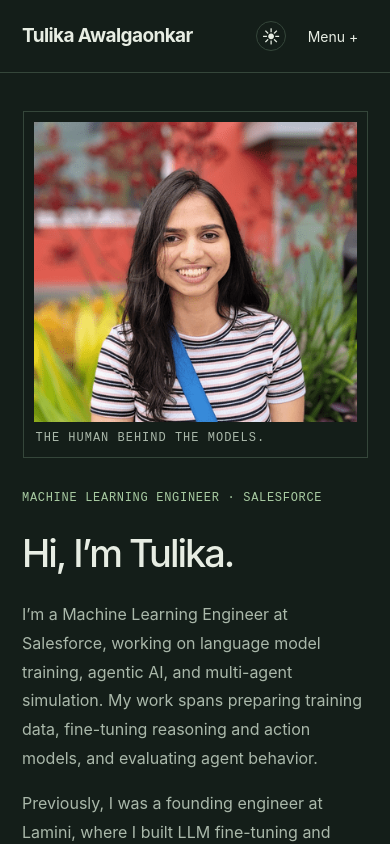
it: supports theme persistence and keyboard dismissal of mobile navigation
This screenshot has width=390, height=844.
Step 1. Click the button named "Switch to light mode" → click(271, 36), box [256,21,286,51]
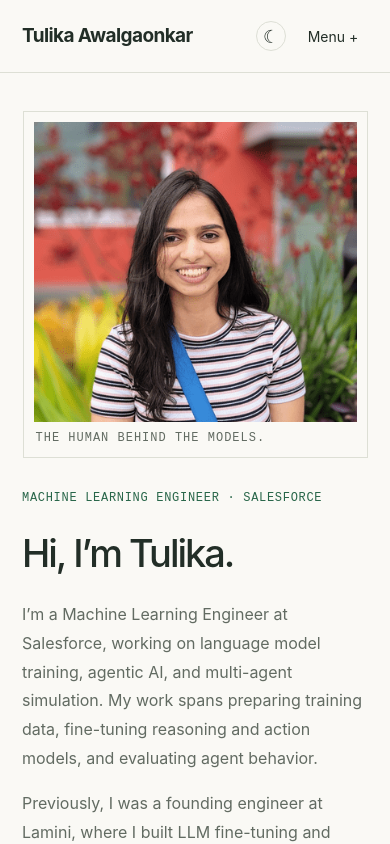
Step 2. Click the button with aria-label "Open navigation" → click(333, 36), box [298,14,368,58]
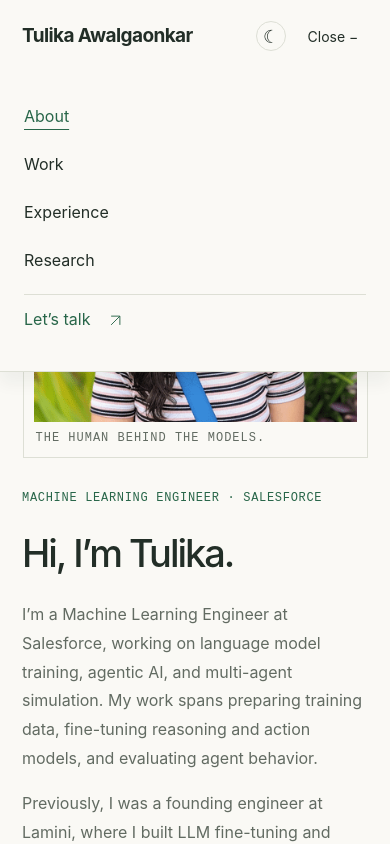
Expected: the button with aria-label "Close navigation" is expanded, [298,14,368,58]
Step 3. Press Escape
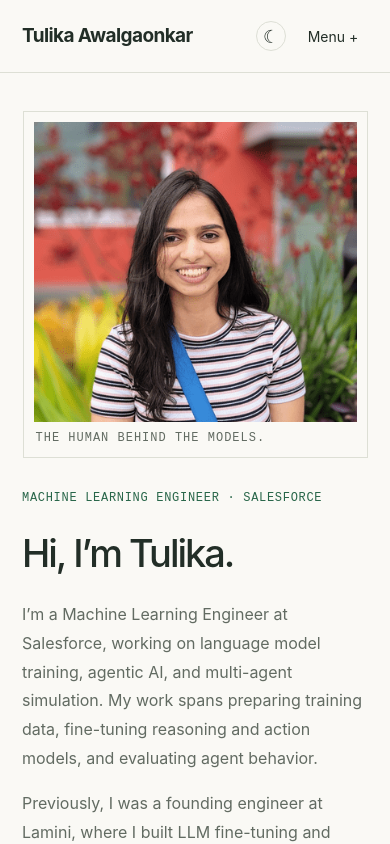
Expected: the button with aria-label "Open navigation" is collapsed, [298,14,368,58]
